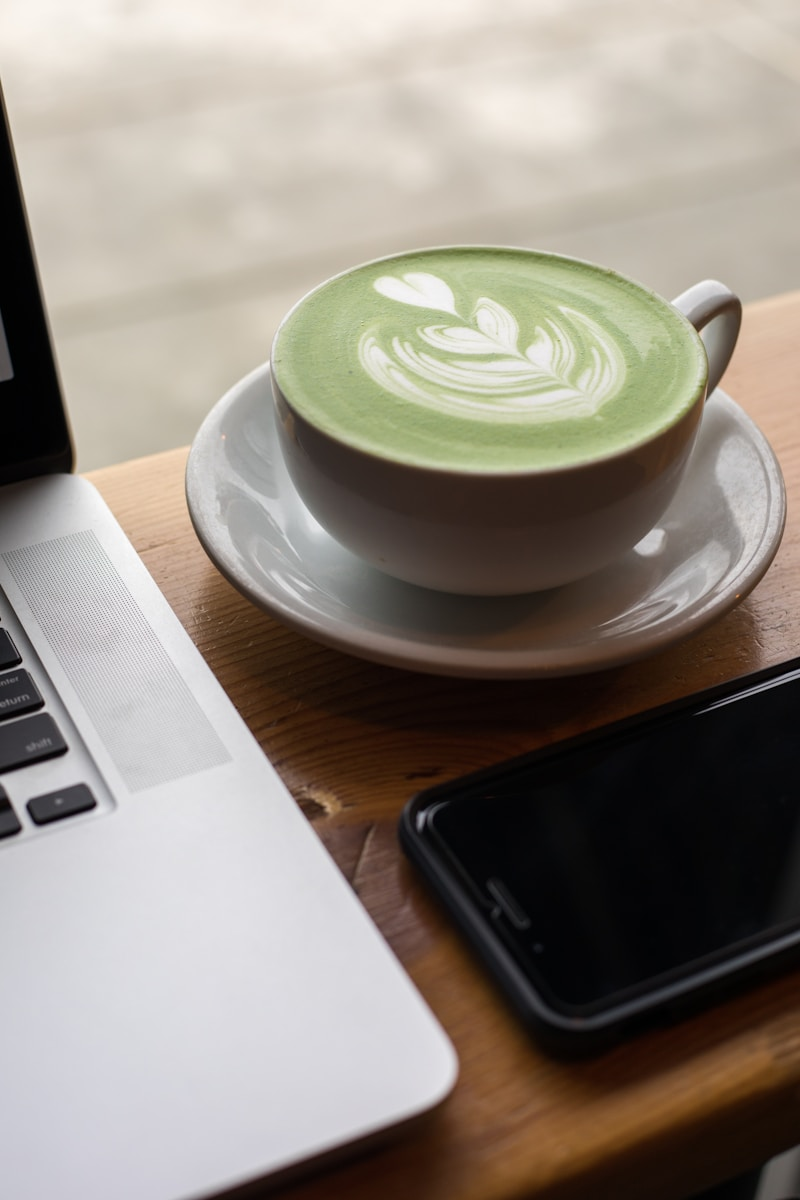cup: (270, 244, 744, 600)
